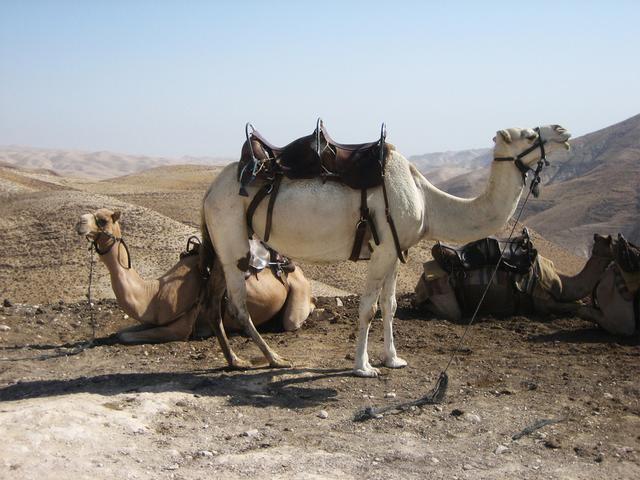camel: (160, 99, 569, 349), (49, 167, 174, 353)
